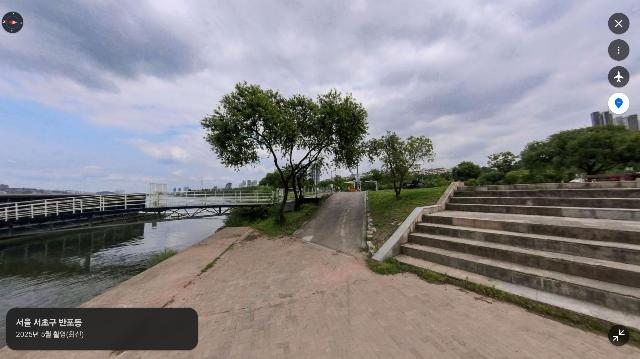other: (201, 80, 331, 219), (288, 88, 371, 215), (516, 124, 640, 181), (359, 130, 437, 202), (486, 151, 525, 181), (448, 161, 483, 189), (257, 170, 282, 201)
